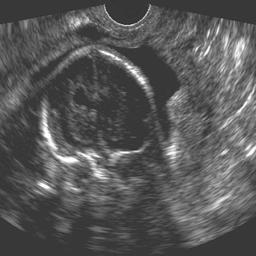abnormal: (13, 28, 191, 212)
